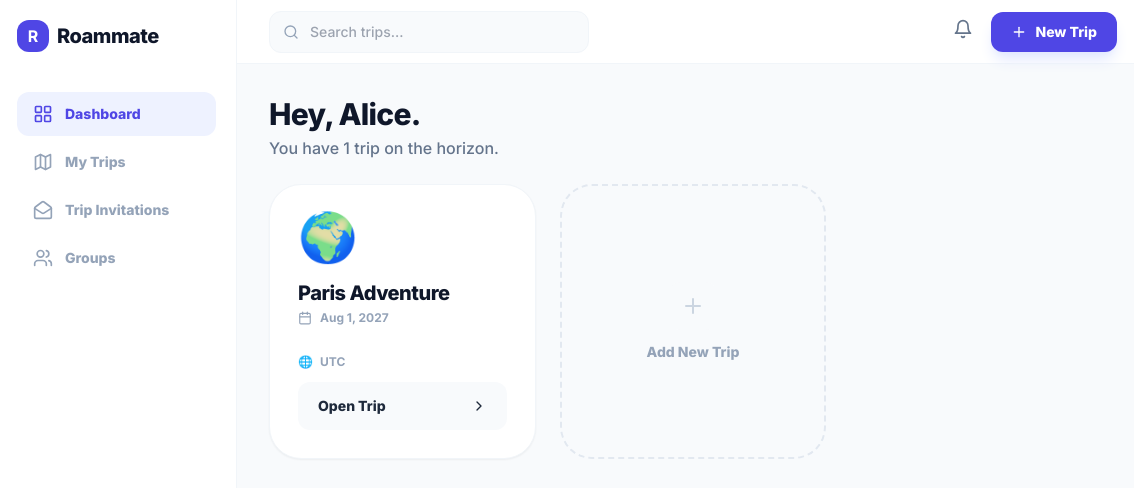
Test: DashboardPage — section navigation › switches to My Trips section and shows current/past toggle
Expected: the heading "Paris Adventure" is shown, x1=298 y1=281 x2=450 y2=306
What coordinates should you click on to do the following:
click the button "My Trips"
I would click on:
 (116, 162)
Its box is x1=17 y1=140 x2=216 y2=184.
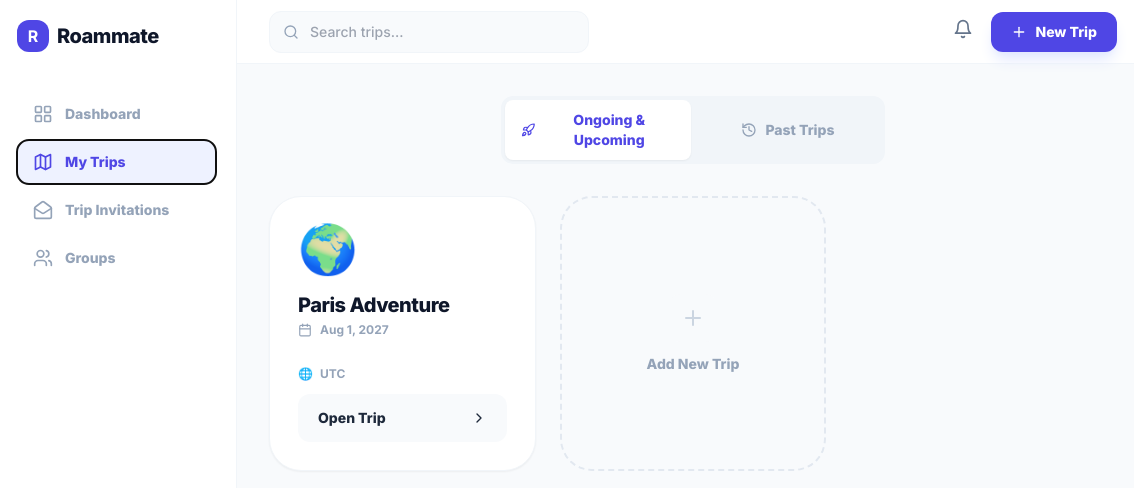
Now the button "Ongoing & Upcoming" is shown, box x1=505 y1=100 x2=691 y2=160
